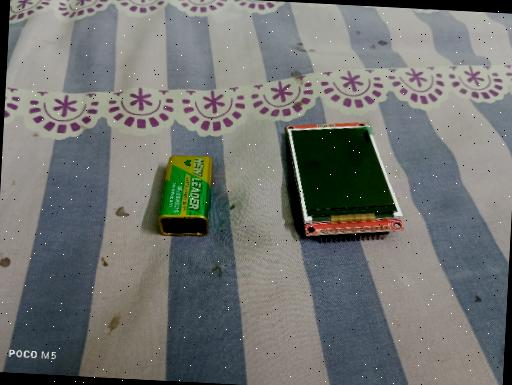Battery: (157, 154, 214, 238)
Display: (279, 116, 410, 249)
